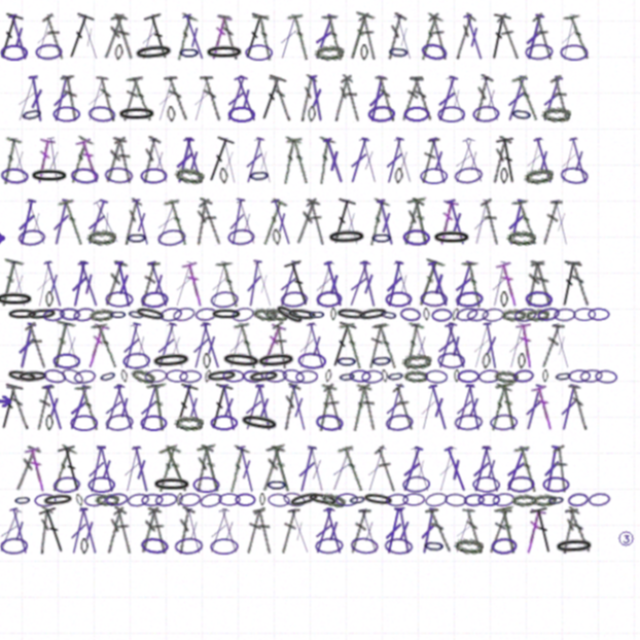chain: (245, 415, 287, 437), (278, 308, 312, 334), (143, 56, 184, 76), (160, 356, 201, 375), (228, 356, 269, 375), (262, 356, 303, 375), (552, 537, 592, 555), (293, 490, 327, 511), (331, 237, 371, 254), (143, 311, 177, 330), (212, 58, 252, 74), (127, 118, 167, 134), (42, 178, 82, 194), (433, 238, 473, 254), (8, 298, 48, 314), (161, 478, 201, 494), (311, 491, 344, 510), (522, 176, 553, 196), (166, 236, 196, 256), (19, 372, 52, 390), (422, 55, 450, 76), (183, 176, 213, 195), (360, 312, 393, 329), (365, 492, 398, 509), (455, 176, 484, 195), (319, 57, 349, 75), (404, 357, 434, 375), (558, 176, 586, 195), (116, 416, 144, 435), (320, 416, 348, 435), (388, 416, 416, 435), (150, 536, 178, 555), (354, 536, 382, 555), (291, 313, 324, 329), (254, 373, 287, 389), (54, 493, 87, 509), (387, 537, 416, 555), (99, 117, 127, 135), (14, 177, 42, 195), (82, 177, 110, 195), (31, 237, 59, 255), (150, 297, 178, 315), (218, 297, 246, 315), (286, 297, 314, 315), (456, 297, 484, 315), (65, 477, 93, 495), (72, 371, 97, 391), (38, 313, 71, 328), (339, 313, 372, 328), (213, 373, 246, 388), (140, 371, 166, 390), (115, 177, 144, 194), (98, 237, 127, 254), (455, 417, 484, 434), (183, 537, 212, 554), (455, 537, 484, 554), (33, 116, 57, 136), (524, 57, 552, 74), (303, 357, 331, 374), (320, 537, 348, 554), (325, 492, 351, 510), (540, 118, 569, 134), (506, 238, 535, 254), (183, 418, 212, 434), (48, 57, 75, 74), (371, 117, 398, 134), (473, 117, 500, 134), (235, 237, 262, 254), (405, 237, 432, 254), (422, 297, 449, 314), (524, 297, 551, 314), (133, 357, 160, 374), (439, 357, 466, 374), (490, 417, 517, 434), (405, 477, 432, 494), (507, 477, 534, 494), (14, 537, 41, 554), (558, 58, 586, 74), (116, 298, 144, 314), (30, 374, 62, 388), (218, 538, 246, 554), (321, 297, 347, 314), (491, 537, 517, 554), (14, 58, 41, 74), (252, 58, 279, 74), (65, 118, 92, 134), (235, 118, 262, 134), (439, 118, 466, 134), (509, 117, 533, 135), (150, 178, 177, 194), (422, 178, 449, 194), (388, 298, 415, 314), (65, 358, 92, 374), (82, 418, 109, 434), (150, 418, 177, 434), (218, 418, 245, 434), (99, 478, 126, 494), (201, 478, 228, 494), (473, 478, 500, 494), (541, 478, 568, 494), (207, 492, 231, 510), (406, 118, 432, 134), (20, 314, 52, 327), (218, 314, 250, 327), (84, 312, 108, 329), (168, 312, 192, 329), (181, 312, 205, 329), (238, 312, 262, 329), (456, 312, 480, 329), (535, 312, 559, 329), (55, 372, 79, 389), (287, 372, 311, 389), (288, 492, 312, 509), (426, 492, 450, 509), (100, 313, 125, 329), (390, 57, 413, 74), (259, 313, 284, 328), (270, 313, 295, 328), (255, 177, 277, 194), (374, 357, 396, 374), (425, 537, 447, 554), (55, 313, 78, 329), (467, 313, 490, 329), (513, 313, 536, 329), (85, 373, 108, 389), (137, 493, 160, 509), (187, 58, 209, 74), (136, 238, 158, 254), (374, 238, 396, 254), (340, 358, 362, 374), (272, 478, 294, 494), (203, 313, 226, 328), (154, 373, 177, 388), (271, 373, 294, 388), (478, 373, 501, 388), (577, 373, 600, 388), (116, 493, 139, 508), (164, 493, 187, 508), (187, 493, 210, 508), (492, 493, 515, 508), (585, 493, 608, 508), (109, 372, 129, 389), (501, 314, 525, 328), (524, 314, 548, 328), (494, 374, 518, 388), (511, 494, 535, 508), (531, 494, 555, 508), (71, 313, 93, 328), (402, 313, 424, 328), (512, 373, 534, 388), (565, 493, 587, 508), (482, 314, 505, 328), (95, 494, 118, 508), (382, 313, 402, 329), (406, 374, 430, 387), (106, 494, 130, 507), (552, 314, 574, 328), (188, 374, 210, 388), (249, 374, 271, 388), (301, 374, 323, 388), (365, 374, 387, 388), (427, 374, 449, 388), (592, 374, 614, 388), (47, 494, 69, 508), (151, 494, 173, 508), (274, 494, 296, 508), (389, 494, 411, 508), (446, 494, 468, 508), (464, 494, 486, 508), (433, 314, 454, 328), (571, 314, 593, 327), (585, 314, 607, 327), (175, 374, 197, 387), (230, 374, 252, 387), (353, 374, 375, 387), (458, 374, 480, 387), (566, 374, 588, 387), (226, 494, 248, 507), (340, 494, 362, 507), (405, 494, 427, 507), (478, 494, 500, 507), (137, 313, 156, 328), (389, 373, 408, 388), (552, 373, 571, 388), (352, 493, 371, 508), (242, 494, 263, 507), (342, 374, 361, 388), (545, 494, 564, 508), (27, 494, 45, 508), (120, 314, 138, 327), (313, 314, 331, 327), (278, 237, 288, 254), (125, 58, 134, 74), (176, 118, 185, 134), (227, 178, 236, 194), (397, 178, 406, 194), (482, 358, 491, 374), (364, 58, 372, 74), (313, 118, 321, 134), (500, 178, 508, 194), (58, 298, 66, 314), (500, 298, 508, 314), (211, 358, 219, 374), (517, 358, 525, 374), (58, 418, 66, 434), (92, 538, 100, 554), (452, 314, 461, 328), (87, 494, 96, 508), (212, 374, 220, 388), (131, 374, 139, 387), (329, 374, 337, 387), (384, 374, 392, 387), (425, 314, 432, 327), (185, 494, 192, 507), (335, 314, 341, 327), (455, 374, 461, 387), (541, 374, 547, 387), (266, 494, 272, 507)
double: (168, 446, 204, 496), (74, 26, 107, 75), (261, 86, 294, 135), (210, 146, 243, 195), (414, 266, 447, 315), (101, 207, 135, 254), (245, 26, 277, 75), (347, 26, 379, 75), (262, 206, 294, 255), (289, 266, 321, 315), (330, 326, 362, 375), (58, 446, 90, 495), (272, 446, 304, 495), (51, 506, 83, 555), (7, 507, 39, 555), (7, 26, 38, 75), (153, 26, 184, 75), (561, 26, 592, 75), (136, 86, 167, 135), (510, 86, 541, 135), (102, 326, 133, 375), (177, 386, 208, 435), (160, 446, 191, 495), (238, 87, 269, 135), (160, 207, 191, 255), (24, 447, 55, 495), (442, 447, 473, 495), (500, 447, 531, 495), (76, 146, 106, 195), (331, 206, 361, 255), (511, 206, 541, 255), (8, 266, 38, 315), (8, 386, 38, 435), (212, 386, 242, 435), (69, 446, 99, 495), (205, 446, 235, 495), (341, 446, 371, 495), (188, 27, 218, 75), (314, 27, 344, 75), (416, 27, 446, 75), (69, 207, 99, 255), (263, 327, 293, 375), (375, 327, 405, 375), (331, 447, 361, 495), (290, 507, 320, 555), (409, 206, 438, 255), (59, 326, 88, 375), (494, 506, 523, 555), (528, 506, 557, 555), (110, 27, 139, 75), (25, 87, 54, 135), (229, 87, 258, 135), (450, 147, 479, 195), (460, 147, 489, 195), (35, 207, 64, 255), (297, 207, 326, 255), (86, 267, 115, 315), (154, 267, 183, 315), (280, 267, 309, 315), (348, 267, 377, 315), (426, 267, 455, 315), (137, 327, 166, 375), (205, 327, 234, 375), (443, 327, 472, 375), (76, 387, 105, 435), (86, 387, 115, 435), (110, 387, 139, 435), (484, 387, 513, 435), (212, 507, 241, 555), (495, 386, 523, 435), (87, 27, 115, 75), (121, 27, 149, 75), (179, 27, 207, 75), (461, 27, 489, 75), (434, 87, 462, 135), (444, 87, 472, 135), (502, 87, 530, 135), (536, 87, 564, 135), (87, 147, 115, 195), (155, 147, 183, 195), (325, 147, 353, 195), (94, 207, 122, 255), (172, 207, 200, 255), (240, 207, 268, 255), (274, 207, 302, 255), (366, 207, 394, 255), (111, 267, 139, 315), (223, 267, 251, 315), (315, 267, 343, 315), (553, 267, 581, 315), (342, 327, 370, 375), (410, 327, 438, 375), (434, 327, 462, 375), (121, 387, 149, 435), (230, 447, 258, 495), (264, 447, 292, 495), (400, 447, 428, 495), (512, 447, 540, 495), (223, 507, 251, 555), (315, 507, 343, 555), (359, 507, 387, 555), (451, 507, 479, 555), (495, 27, 523, 74), (427, 507, 455, 554), (19, 27, 46, 75), (281, 27, 308, 75), (393, 27, 420, 75), (485, 27, 512, 75), (94, 87, 121, 135), (162, 87, 189, 135), (478, 87, 505, 135), (9, 147, 36, 195), (189, 147, 216, 195), (257, 147, 284, 195), (291, 147, 318, 195), (349, 147, 376, 195), (359, 147, 386, 195), (393, 147, 420, 195), (495, 147, 522, 195), (529, 147, 556, 195), (53, 267, 80, 315), (179, 267, 206, 315), (257, 267, 284, 315), (325, 267, 352, 315), (393, 267, 420, 315), (451, 267, 478, 315), (495, 267, 522, 315), (529, 267, 556, 315), (94, 327, 121, 375), (162, 327, 189, 375), (172, 327, 199, 375), (240, 327, 267, 375), (400, 327, 427, 375), (53, 387, 80, 435), (145, 387, 172, 435), (189, 387, 216, 435), (247, 387, 274, 435), (349, 387, 376, 435), (427, 387, 454, 435), (366, 447, 393, 495), (410, 447, 437, 495), (325, 507, 352, 555), (206, 207, 233, 254), (400, 207, 427, 254), (376, 447, 403, 494), (111, 507, 138, 554), (563, 507, 590, 554), (44, 27, 70, 75), (146, 27, 172, 75), (214, 27, 240, 75), (292, 27, 318, 75), (326, 27, 352, 75), (520, 27, 546, 75), (197, 87, 223, 135), (20, 147, 46, 195), (112, 147, 138, 195), (180, 147, 206, 195), (248, 147, 274, 195), (282, 147, 308, 195), (384, 147, 410, 195), (520, 147, 546, 195), (564, 147, 590, 195), (27, 207, 53, 255), (445, 207, 471, 255), (469, 207, 495, 255), (190, 267, 216, 315), (214, 267, 240, 315), (71, 327, 97, 375), (231, 327, 257, 375), (299, 327, 325, 375), (309, 327, 335, 375), (469, 327, 495, 375), (503, 327, 529, 375), (547, 327, 573, 375), (156, 387, 182, 435), (316, 387, 342, 435), (384, 387, 410, 435), (452, 387, 478, 435), (520, 387, 546, 435), (530, 387, 556, 435), (37, 447, 63, 495), (129, 447, 155, 495), (299, 447, 325, 495), (309, 447, 335, 495), (435, 447, 461, 495), (20, 507, 46, 555), (88, 507, 114, 555), (146, 507, 172, 555), (54, 27, 80, 74), (384, 27, 410, 74), (452, 27, 478, 74), (173, 87, 199, 134), (486, 147, 512, 194), (37, 327, 63, 374), (537, 327, 563, 374), (394, 387, 420, 434), (486, 507, 512, 554), (61, 87, 86, 135), (428, 147, 453, 195), (554, 147, 579, 195), (61, 207, 86, 255), (139, 207, 164, 255), (343, 207, 368, 255), (377, 207, 402, 255), (503, 207, 528, 255), (547, 207, 572, 255), (20, 267, 45, 315), (122, 267, 147, 315), (360, 267, 385, 315), (462, 267, 487, 315), (129, 327, 154, 375), (197, 327, 222, 375), (224, 387, 249, 435), (292, 387, 317, 435), (418, 387, 443, 435), (554, 387, 579, 435), (95, 447, 120, 495), (105, 447, 130, 495), (139, 447, 164, 495), (241, 447, 266, 495), (469, 447, 494, 495), (479, 447, 504, 495), (78, 507, 103, 555), (190, 507, 215, 555), (384, 507, 409, 555), (520, 507, 545, 555), (530, 27, 555, 74), (275, 87, 300, 134), (401, 87, 426, 134), (469, 87, 494, 134), (146, 147, 171, 194), (20, 387, 45, 434), (259, 27, 283, 75), (555, 27, 579, 75), (368, 87, 392, 135), (225, 147, 249, 195), (317, 147, 341, 195), (436, 207, 460, 255), (45, 267, 69, 315), (79, 267, 103, 315), (385, 267, 409, 315), (487, 267, 511, 315), (28, 327, 52, 375), (259, 387, 283, 435), (429, 27, 453, 74), (334, 87, 358, 134), (344, 87, 368, 134), (412, 87, 436, 134), (310, 207, 334, 254), (565, 267, 589, 314), (283, 387, 307, 434), (327, 387, 351, 434), (198, 447, 222, 494), (351, 507, 375, 554), (38, 87, 61, 135), (45, 147, 68, 195), (521, 267, 544, 315), (480, 327, 503, 375), (463, 387, 486, 435), (419, 507, 442, 555), (361, 27, 384, 74), (72, 87, 95, 134), (130, 87, 153, 134), (208, 87, 231, 134), (378, 87, 401, 134), (548, 87, 571, 134), (130, 207, 153, 254), (198, 207, 221, 254), (480, 207, 503, 254), (538, 207, 561, 254), (147, 267, 170, 314), (123, 507, 146, 554), (157, 507, 180, 554), (181, 507, 204, 554), (463, 507, 486, 554), (226, 27, 248, 74), (107, 87, 129, 134), (301, 87, 323, 134), (311, 87, 333, 134), (124, 147, 146, 194), (420, 147, 442, 194), (233, 207, 255, 254), (250, 267, 272, 314), (566, 387, 588, 434), (539, 447, 561, 494), (250, 507, 272, 554), (260, 507, 282, 554), (284, 507, 306, 554), (396, 507, 418, 554), (556, 507, 578, 554), (56, 147, 77, 194), (369, 327, 390, 374), (515, 327, 536, 374), (46, 387, 67, 434), (362, 387, 383, 434), (278, 327, 297, 374), (551, 447, 569, 494), (48, 507, 66, 554)
noise: (613, 529, 632, 548), (0, 399, 27, 411), (0, 239, 21, 254)
